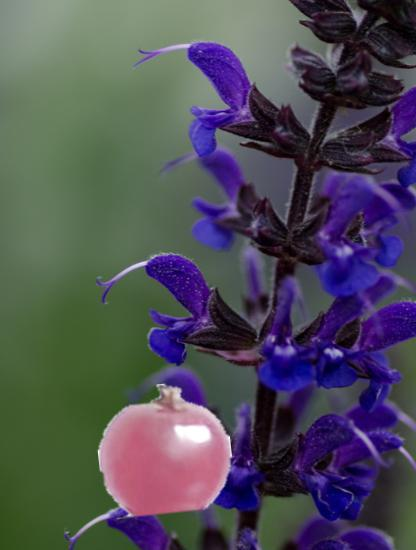Redcurrant: (98, 384, 231, 517)
